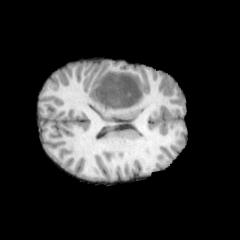glioma: (89, 71, 144, 110)
